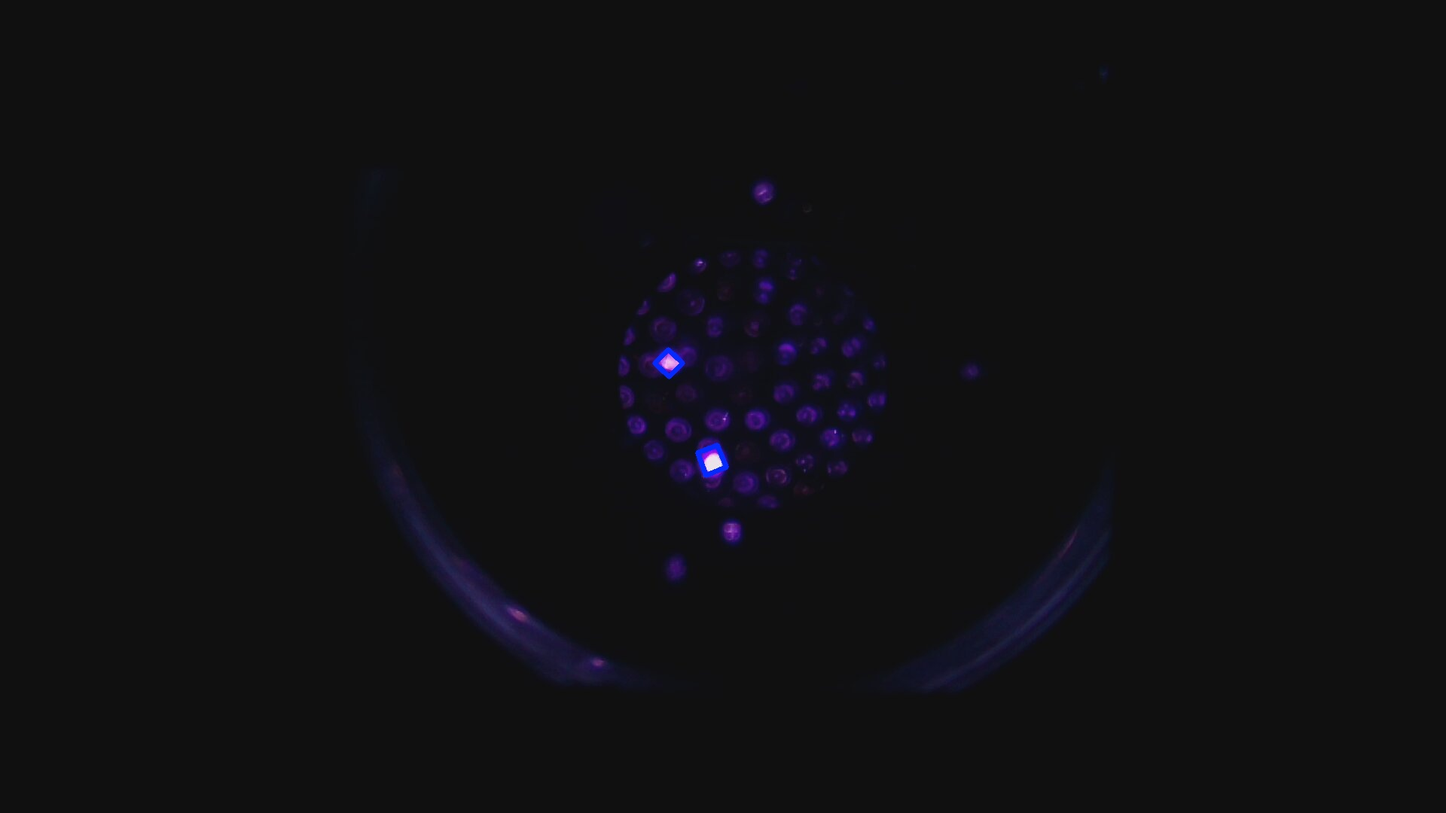plastic: (649, 344, 688, 382), (693, 441, 731, 479)
